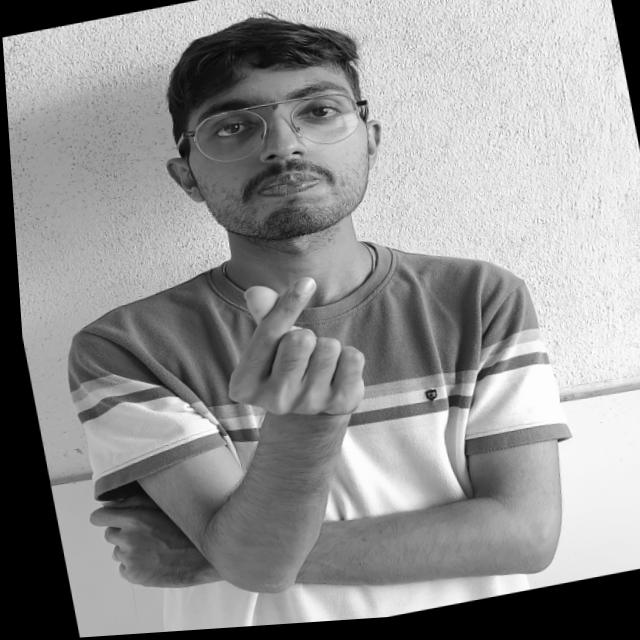Grattitude: (169, 239, 453, 484)
